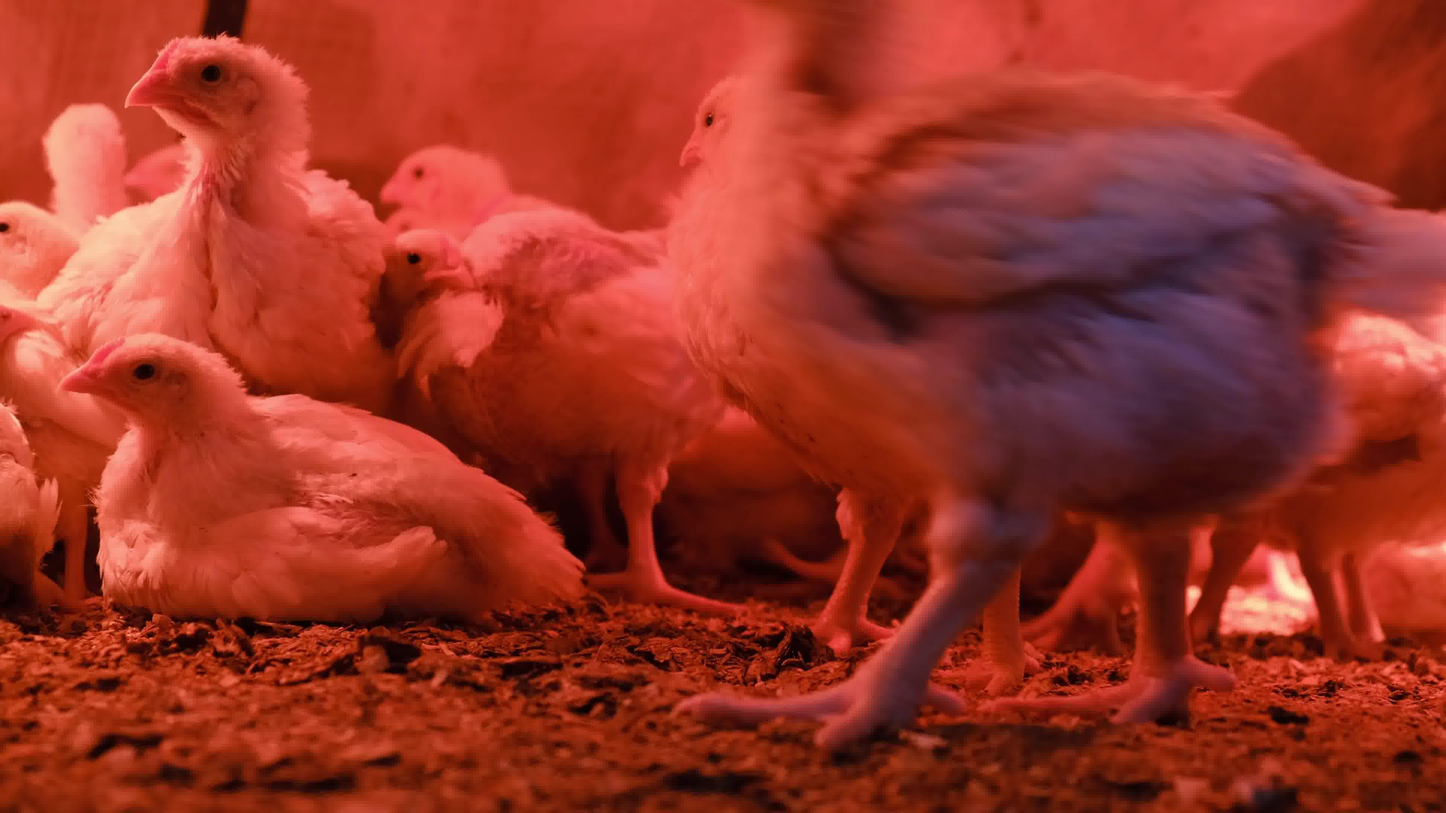AbNormal: (45, 297, 606, 638), (0, 237, 56, 614)
Normal: (687, 9, 1367, 783), (459, 162, 774, 619), (73, 2, 403, 367), (337, 126, 538, 271), (653, 73, 838, 183), (378, 207, 503, 367), (11, 60, 137, 207), (0, 154, 96, 290), (111, 117, 224, 213)
